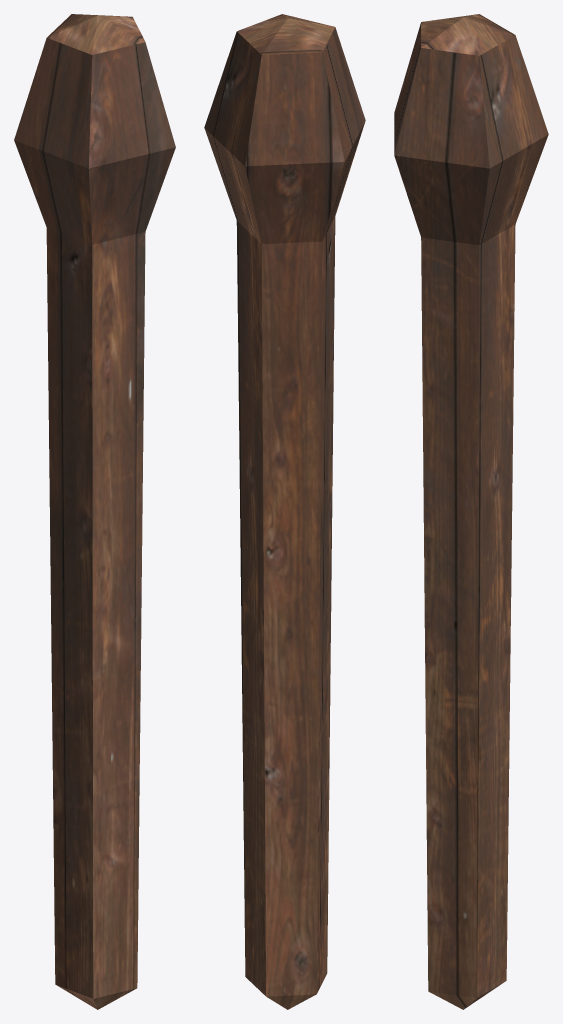
File: torch.obj
3 views of the same model, side by side, from view 1: azimuth 30°, elevation 25°; view 2: azimuth 150°, elevation 25°; view 3: azimuth 270°, elevation 25° (orthographic).
Parts seen in each view (by area): view 1: Circle.003; view 2: Circle.003; view 3: Circle.003.
Boxes of the visible parts, box(x1,y1,x2,y2) form: Circle.003: box(14, 14, 175, 1009); Circle.003: box(204, 14, 365, 1009); Circle.003: box(394, 14, 548, 1009).
Bounding box in the file's own units: 0.0914 × 0.616 × 0.0869.
